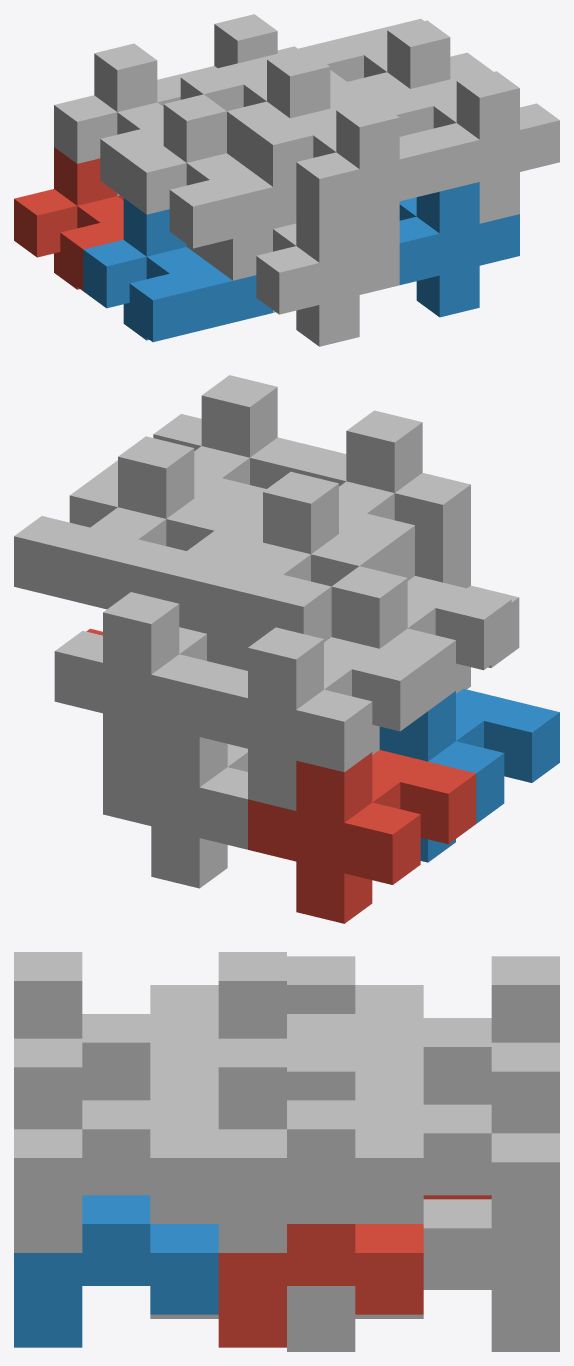
File: tiling.obj
The picture shows the model from 3 angles, top to bottom: view 1: azimuth 30°, elevation 25°; view 2: azimuth 150°, elevation 25°; view 3: azimuth 270°, elevation 25°; orthographic projection. The views are drawn at different scales.
Visible parts, largest first — view 1: copy_2_domain_4, copy_1_domain_4, copy_2_domain_8, copy_2_domain_2, copy_1_domain_2, copy_2_domain_6, copy_1_domain_3, copy_2_domain_3, copy_1_domain_1, copy_2_domain_7, copy_1_domain_7; view 2: copy_1_domain_3, copy_1_domain_1, copy_2_domain_3, copy_2_domain_7, copy_1_domain_7, copy_1_domain_5, copy_2_domain_4, copy_1_domain_4, copy_1_domain_2, copy_2_domain_8, copy_2_domain_2, copy_1_domain_8; view 3: copy_2_domain_7, copy_2_domain_8, copy_1_domain_7, copy_2_domain_6, copy_2_domain_4, copy_2_domain_5, copy_2_domain_3, copy_1_domain_5, copy_1_domain_3, copy_1_domain_8, copy_1_domain_6, copy_1_domain_4.
Part boxes in pixels (<box>): copy_2_domain_4: <box>250,99,439,252</box>; copy_1_domain_4: <box>123,94,296,248</box>; copy_2_domain_8: <box>370,69,559,223</box>; copy_2_domain_2: <box>210,204,399,346</box>; copy_1_domain_2: <box>83,198,272,342</box>; copy_2_domain_6: <box>399,182,519,317</box>; copy_1_domain_3: <box>54,43,180,197</box>; copy_2_domain_3: <box>180,48,369,169</box>; copy_1_domain_1: <box>14,147,123,290</box>; copy_2_domain_7: <box>301,18,490,98</box>; copy_1_domain_7: <box>175,14,297,79</box>; copy_1_domain_3: <box>199,627,427,810</box>; copy_1_domain_1: <box>248,750,476,923</box>; copy_2_domain_3: <box>159,471,387,644</box>; copy_2_domain_7: <box>14,436,241,609</box>; copy_1_domain_7: <box>54,592,251,775</box>; copy_1_domain_5: <box>103,725,247,888</box>; copy_2_domain_4: <box>243,410,470,580</box>; copy_1_domain_4: <box>331,566,511,710</box>; copy_1_domain_2: <box>379,688,559,862</box>; copy_2_domain_8: <box>98,375,325,510</box>; copy_2_domain_2: <box>415,535,519,693</box>; copy_1_domain_8: <box>187,531,262,562</box>; copy_2_domain_7: <box>218,1038,423,1252</box>; copy_2_domain_8: <box>14,1038,218,1252</box>; copy_1_domain_7: <box>355,1042,559,1256</box>; copy_2_domain_6: <box>14,1195,218,1347</box>; copy_2_domain_4: <box>14,952,218,1100</box>; copy_2_domain_5: <box>218,1224,423,1347</box>; copy_2_domain_3: <box>218,952,423,1071</box>; copy_1_domain_5: <box>355,1199,559,1351</box>; copy_1_domain_3: <box>423,956,559,1104</box>; copy_1_domain_8: <box>150,1042,355,1223</box>; copy_1_domain_6: <box>150,1286,355,1351</box>; copy_1_domain_4: <box>287,956,355,1013</box>.
Size of the model in its own units: 9 by 6 by 8.
